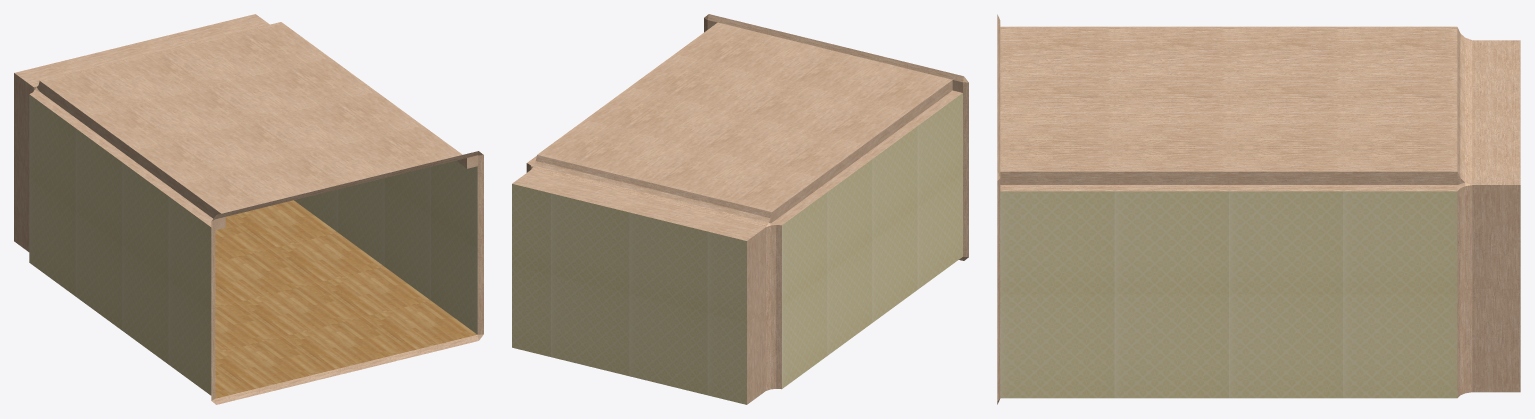
Rendered from livingroom.FBX.
3 renders of one model, left to right at view 1: azimuth 30°, elevation 25°; view 2: azimuth 150°, elevation 25°; view 3: azimuth 270°, elevation 25°, orthographic. The views are drawn at different scales.
Parts seen in each view (by area): view 1: Plane001; view 2: Plane001; view 3: Plane001.
Boxes of the visible parts, x1,y1,x2,y2 form: Plane001: (14, 14, 483, 404); Plane001: (512, 14, 968, 404); Plane001: (997, 14, 1520, 404).
Size of the model in its own units: 339 by 226 by 458.
